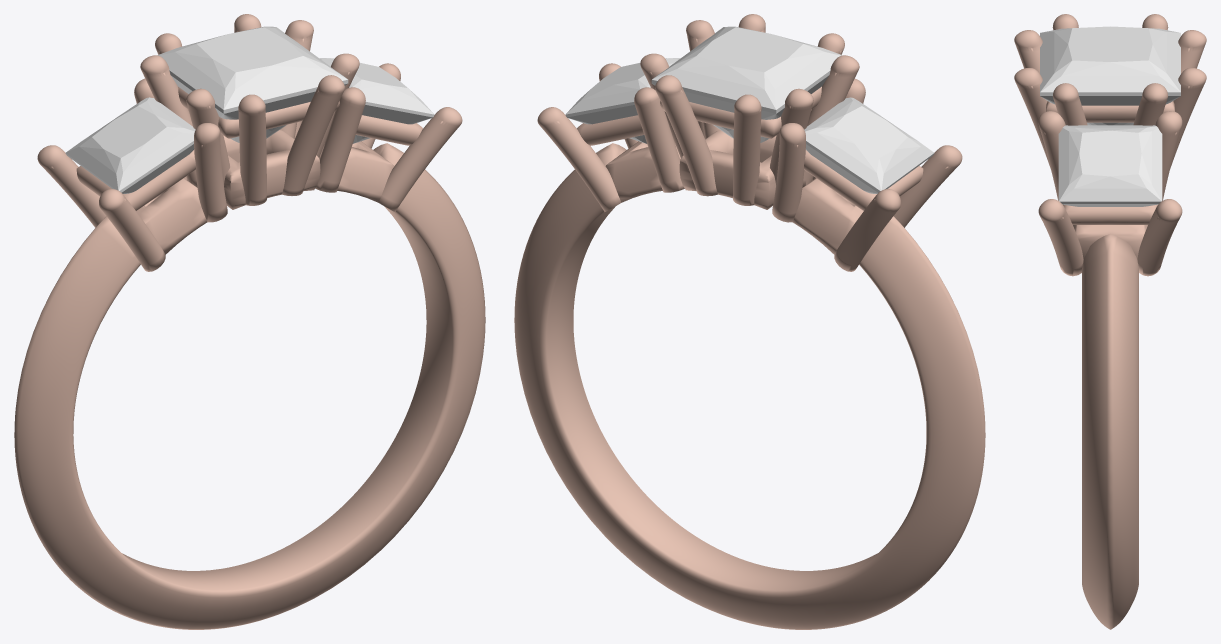
The model's file is diamond-princess-rosegold-8prong-knifeedge-3stone.glb.
3 renders of one model, left to right at view 1: azimuth 30°, elevation 25°; view 2: azimuth 150°, elevation 25°; view 3: azimuth 270°, elevation 25°, orthographic. The views are drawn at different scales.
Visible parts, largest first — view 1: metal, stone, side, side.001; view 2: metal, stone, side, side.001; view 3: metal, stone, side.001.
Part boxes in pixels (x1,y1,x2,y2): metal: (14, 14, 485, 629); stone: (157, 26, 348, 142); side: (65, 97, 195, 193); side.001: (319, 58, 434, 143); metal: (514, 14, 985, 629); stone: (651, 26, 842, 142); side: (804, 97, 934, 193); side.001: (565, 58, 680, 143); metal: (1014, 14, 1206, 629); stone: (1040, 26, 1180, 125); side.001: (1058, 125, 1162, 206).
Bounding box in the file's own units: 20.5 × 23.85 × 7.42.
